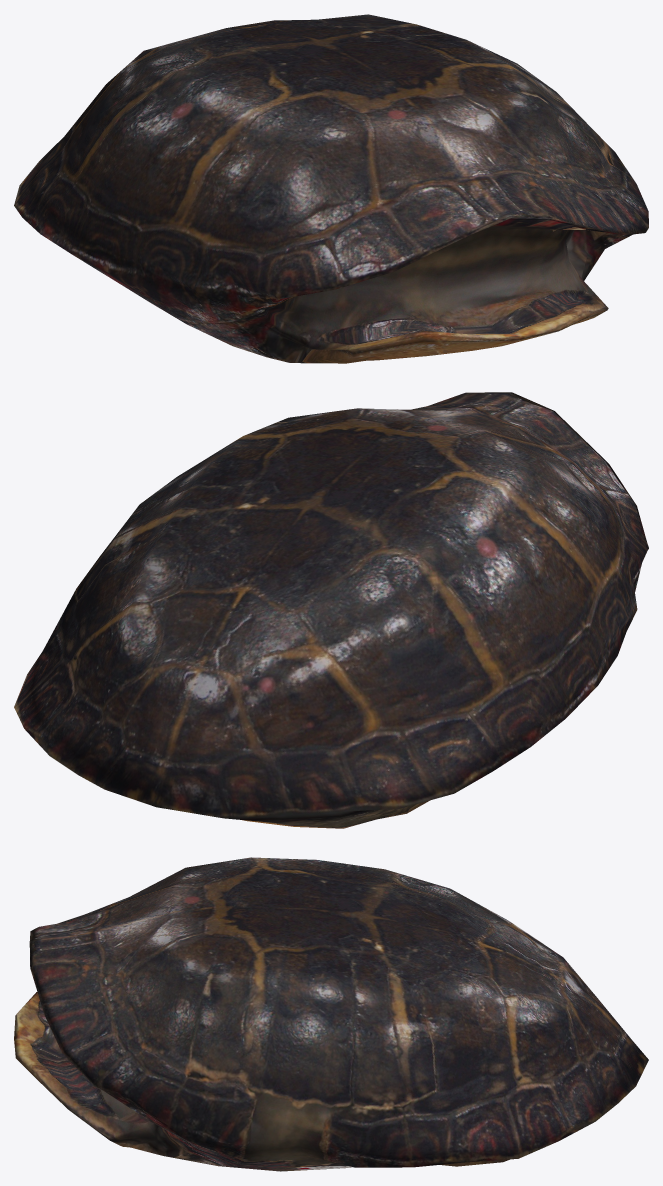
The model's file is shell.glb.
3 views of the same model, one above another, from view 1: azimuth 30°, elevation 25°; view 2: azimuth 150°, elevation 25°; view 3: azimuth 270°, elevation 25° (orthographic). The views are drawn at different scales.
Parts seen in each view (by area): view 1: Turtle Shell; view 2: Turtle Shell; view 3: Turtle Shell.
Part boxes in pixels (bbox=[...]): Turtle Shell: bbox=[14, 14, 648, 363]; Turtle Shell: bbox=[14, 392, 648, 828]; Turtle Shell: bbox=[14, 857, 648, 1171].
Size of the model in its own units: 1043 by 502 by 1373.
Materials: 1 (1 with a texture image).
